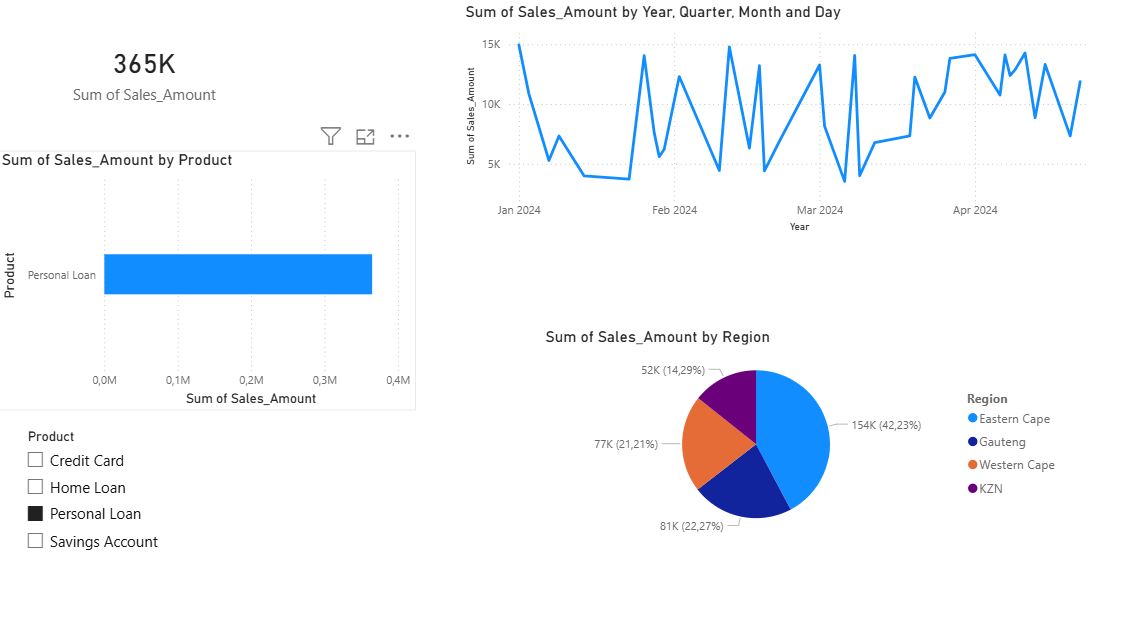

This screenshot's page, from the dashboard's own definition file:
{"tool":"powerbi","page":{"name":"Page 1","canvas":[1280,720],"ordinal":0},"visuals":[{"type":"card","fields":{"Values":["Sum(beginner_bi_bank_sales_dataset.Sales_Amount)"]},"box":[9.4,0,298.9,169.6],"z":0},{"type":"clusteredBarChart","fields":{"Category":["beginner_bi_bank_sales_dataset.Product"],"Y":["Sum(beginner_bi_bank_sales_dataset.Sales_Amount)"]},"box":[0,169.6,451,280],"z":1000},{"type":"lineChart","fields":{"Category":["beginner_bi_bank_sales_dataset.Date.Variation.Date Hierarchy.Year","beginner_bi_bank_sales_dataset.Date.Variation.Date Hierarchy.Quarter","beginner_bi_bank_sales_dataset.Date.Variation.Date Hierarchy.Month","beginner_bi_bank_sales_dataset.Date.Variation.Date Hierarchy.Day"],"Y":["Sum(beginner_bi_bank_sales_dataset.Sales_Amount)"]},"box":[499.5,9.4,697.4,253.1],"z":2000},{"type":"pieChart","fields":{"Category":["beginner_bi_bank_sales_dataset.Region"],"Y":["Sum(beginner_bi_bank_sales_dataset.Sales_Amount)"]},"box":[585.6,359.4,568.1,234.2],"z":3000},{"type":"slicer","fields":{"Values":["beginner_bi_bank_sales_dataset.Product"]},"box":[20.2,464.5,451,227.5],"z":4000}]}

Visuals, with their boxes in screenshot pixels (x1, y1, x2, y2), scaled from the page's 1280x720 canvas onto the 1142x632 screenshot:
card - Sum(beginner_bi_bank_sales_dataset.Sales_Amount): {"x1": 8, "y1": 0, "x2": 275, "y2": 149}
clusteredBarChart - beginner_bi_bank_sales_dataset.Product x Sum(beginner_bi_bank_sales_dataset.Sales_Amount): {"x1": 0, "y1": 149, "x2": 402, "y2": 395}
lineChart - beginner_bi_bank_sales_dataset.Date.Variation.Date Hierarchy.Year x beginner_bi_bank_sales_dataset.Date.Variation.Date Hierarchy.Quarter: {"x1": 446, "y1": 8, "x2": 1068, "y2": 230}
pieChart - beginner_bi_bank_sales_dataset.Region x Sum(beginner_bi_bank_sales_dataset.Sales_Amount): {"x1": 522, "y1": 315, "x2": 1029, "y2": 521}
slicer - beginner_bi_bank_sales_dataset.Product: {"x1": 18, "y1": 408, "x2": 420, "y2": 607}
